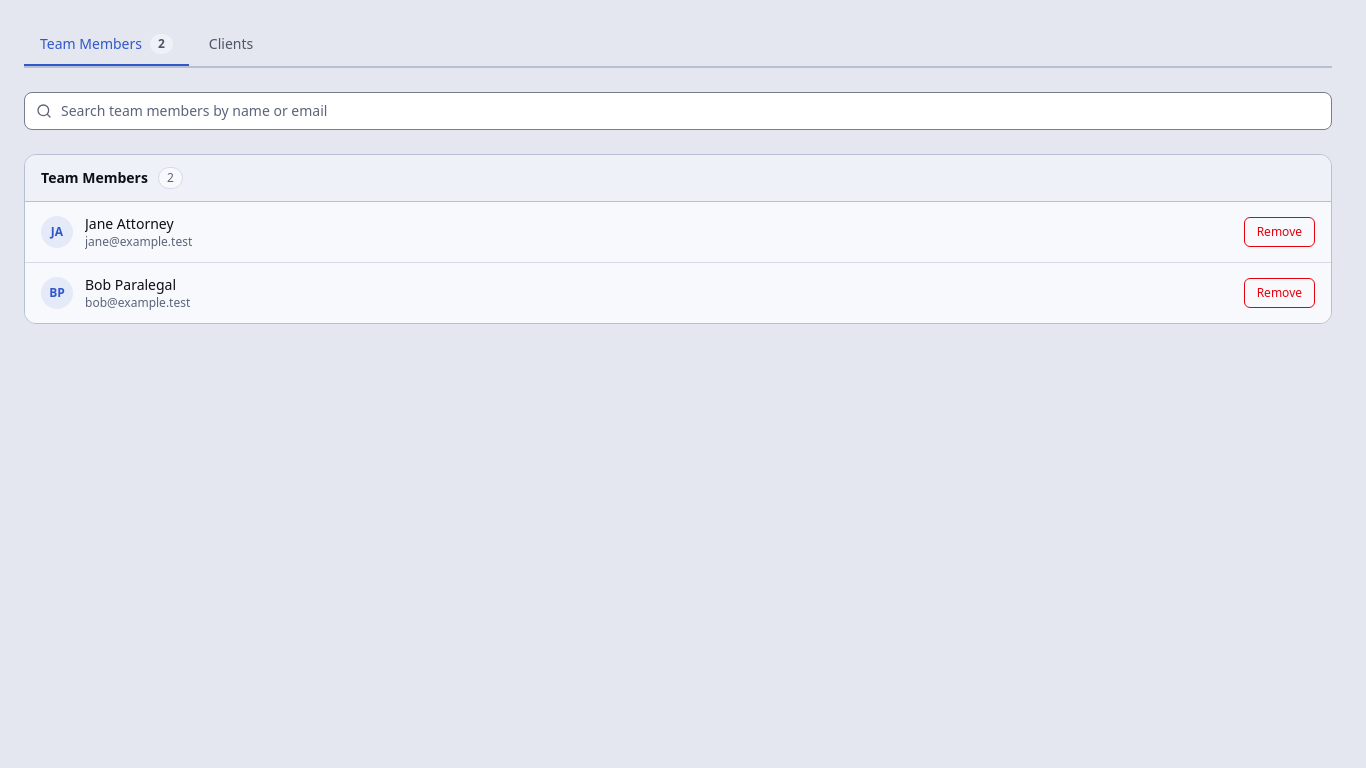
Test: a successful representative action › removes a member and reflects the removal in the list
Expected: the text "Bob Paralegal" is shown, [85,275,176,294]
Click the button "Remove" in the row of "BP" at (1279, 293), box [1244,278,1315,308]
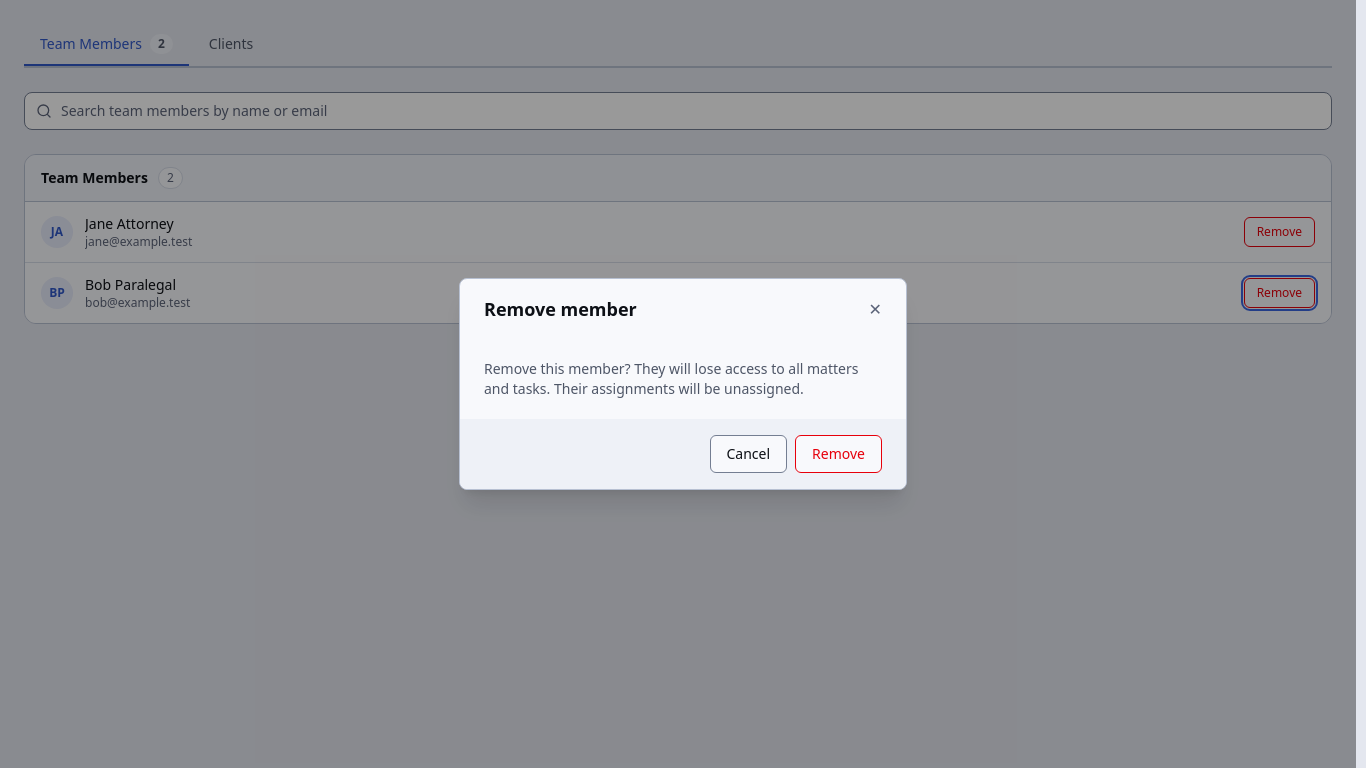
Click the button "Remove" at (839, 454), box [795,435,882,473]
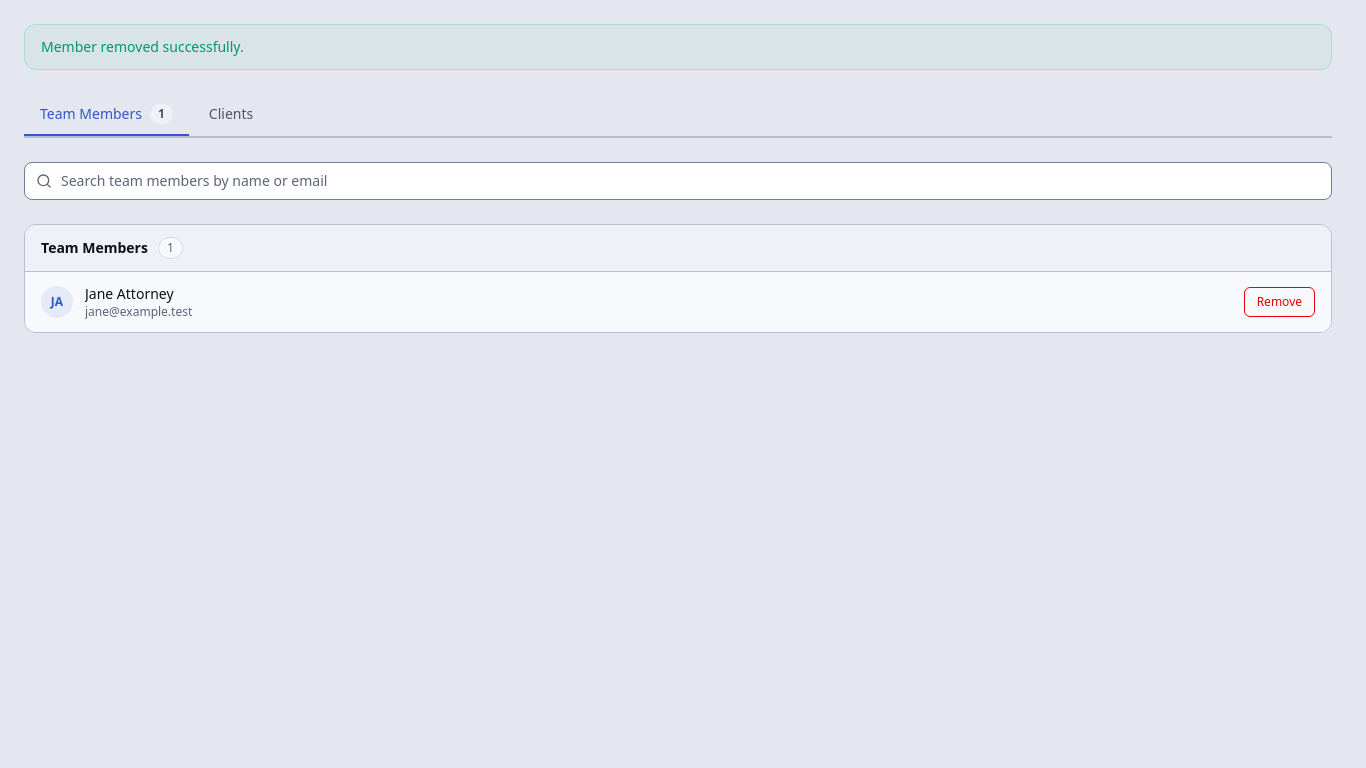
Expected: the text "Jane Attorney" is shown, [85,284,174,303]
Now the text "Bob Paralegal" is gone
Now the text "Member removed successfully." is shown, box [41,37,244,56]
